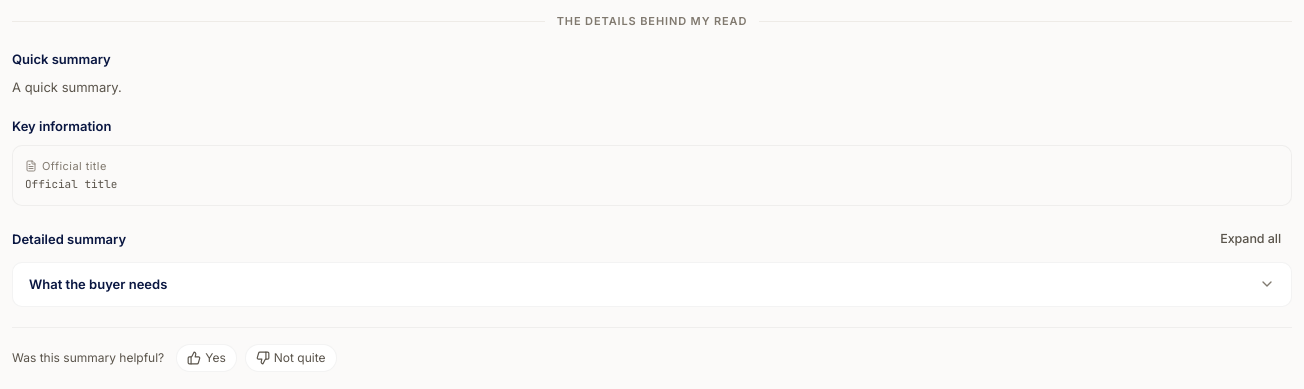
Test: EvidenceBlock summary feedback → PostHog › Yes fires ai_summary_rated:helpful and thanks the user
Step 1. Click the button "Yes" → (207, 358), box [176, 344, 237, 372]
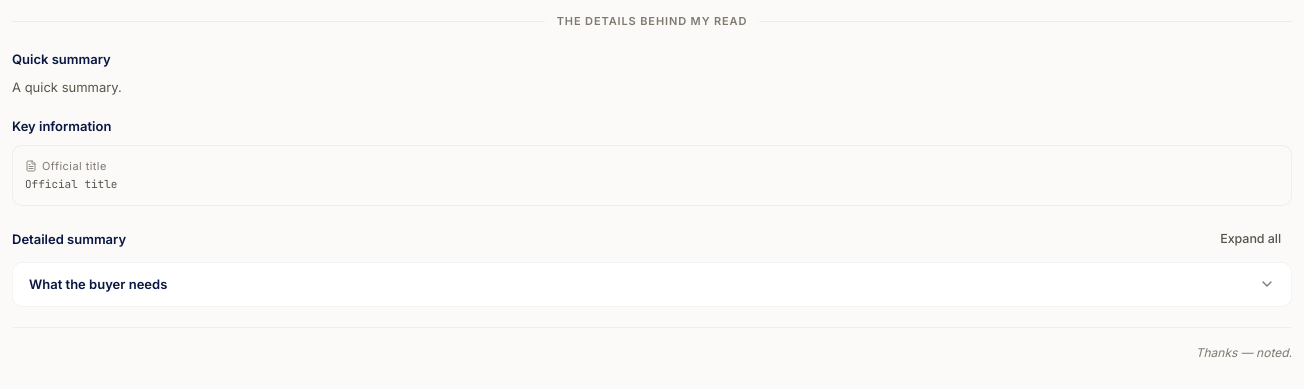
Expected: the text "Thanks — noted." is shown, [1196, 344, 1292, 362]
